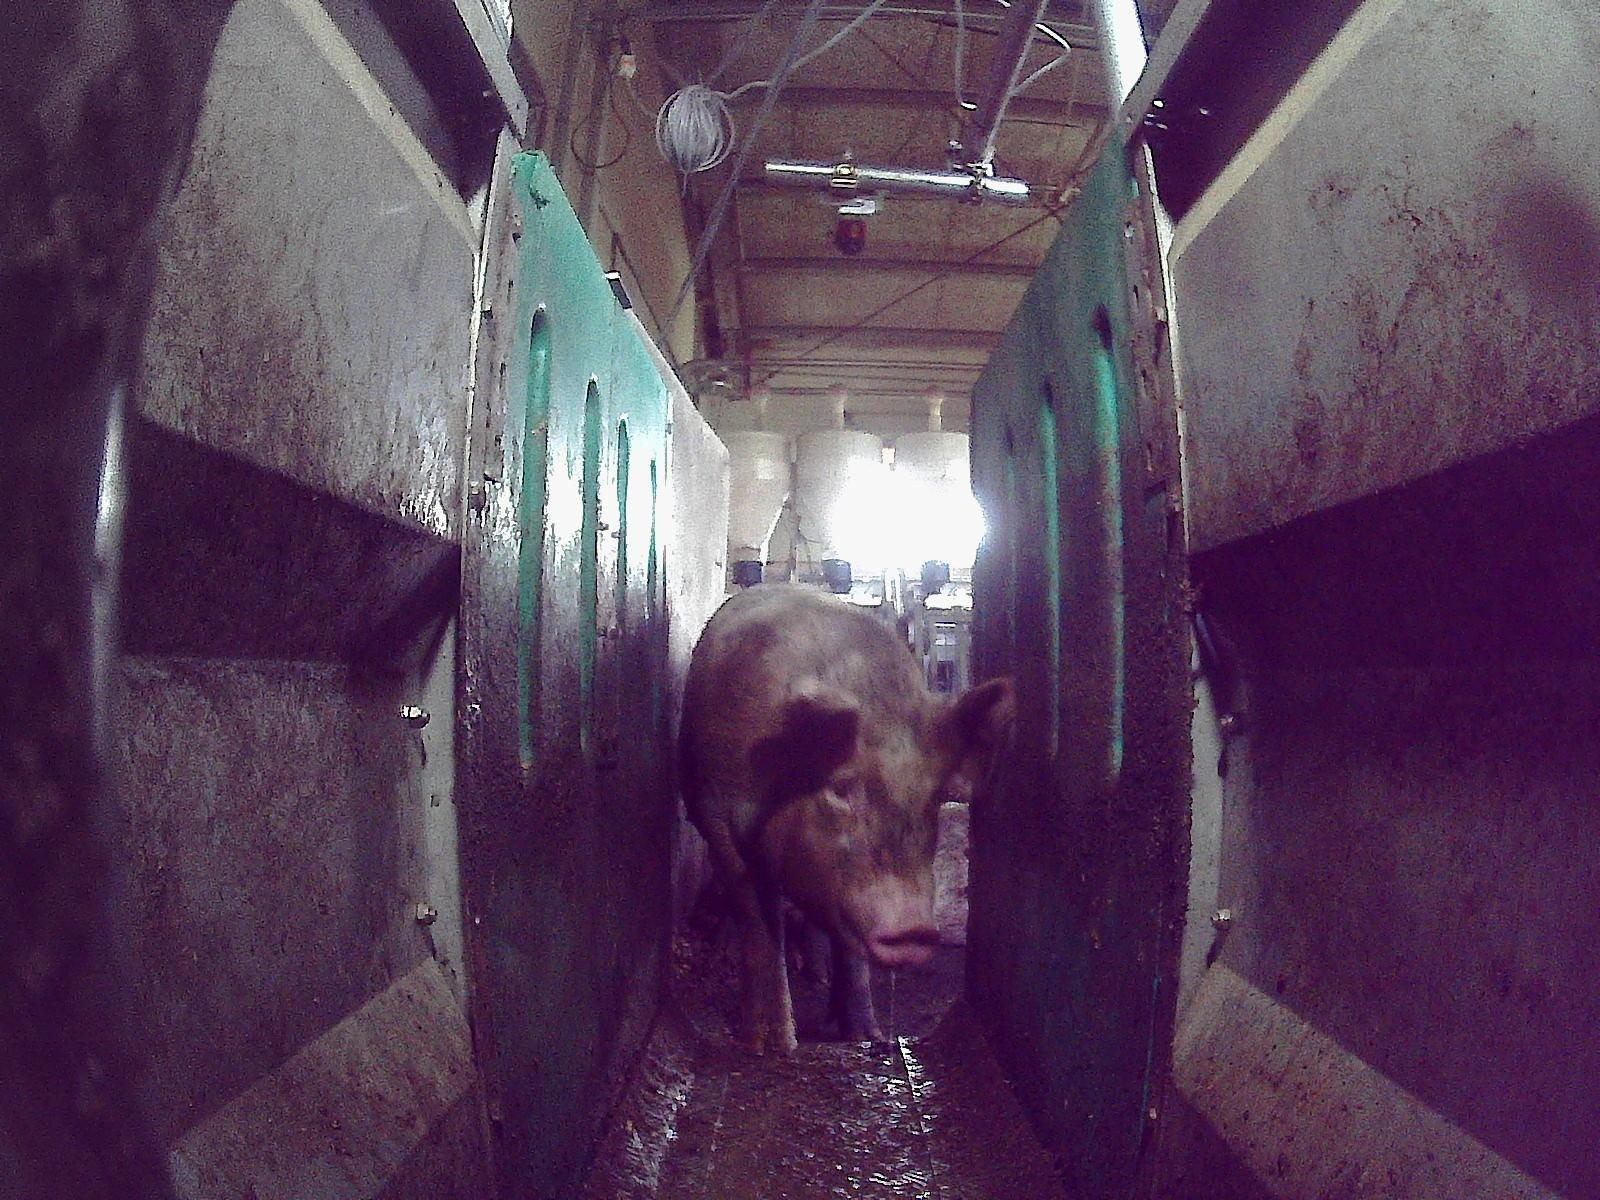Face: (778, 701, 947, 965)
